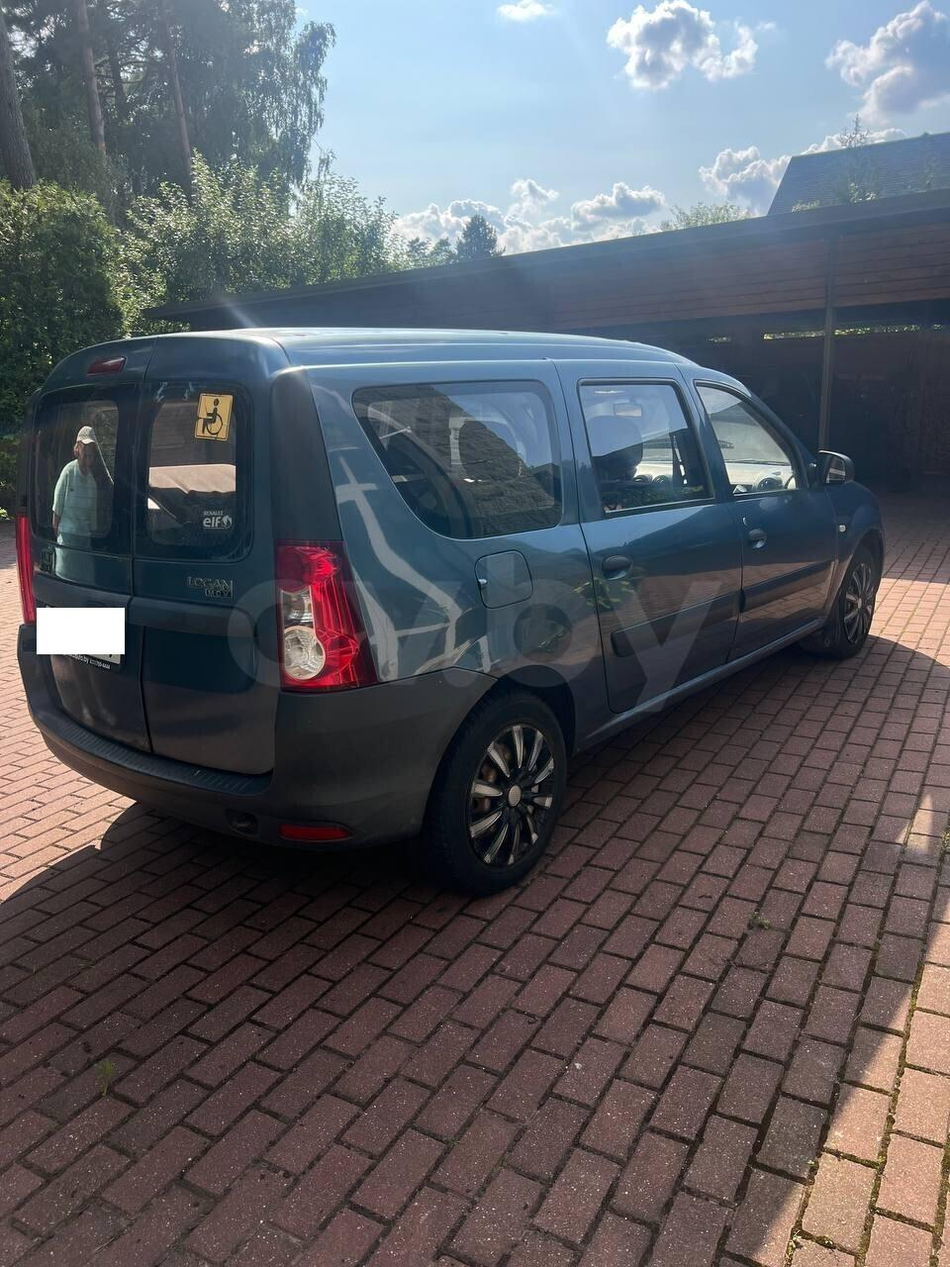Logan_2008-2015: (7, 304, 901, 904)
